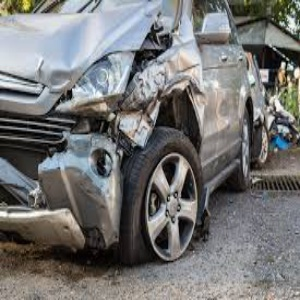bonnet: (3, 10, 161, 65)
bumper: (15, 140, 120, 252)
head_lights: (59, 48, 131, 107)
